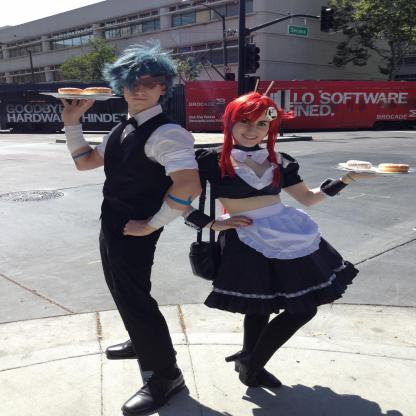face: (233, 106, 272, 150), (125, 71, 165, 109)
